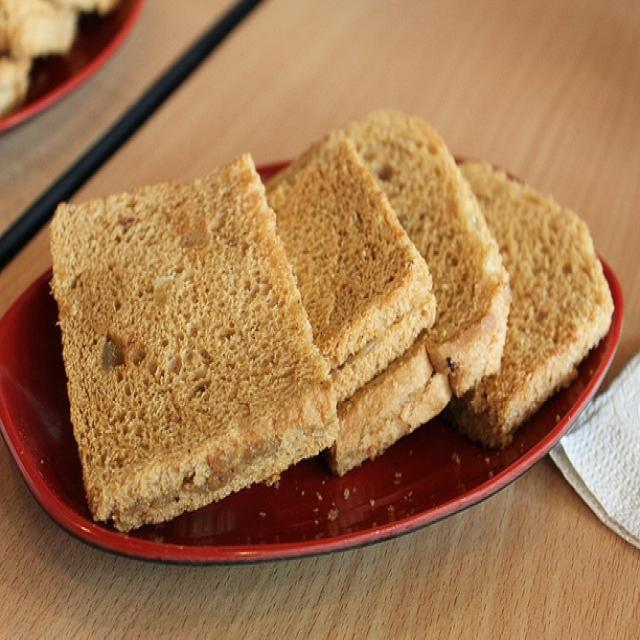面包点心: (31, 108, 604, 557)
